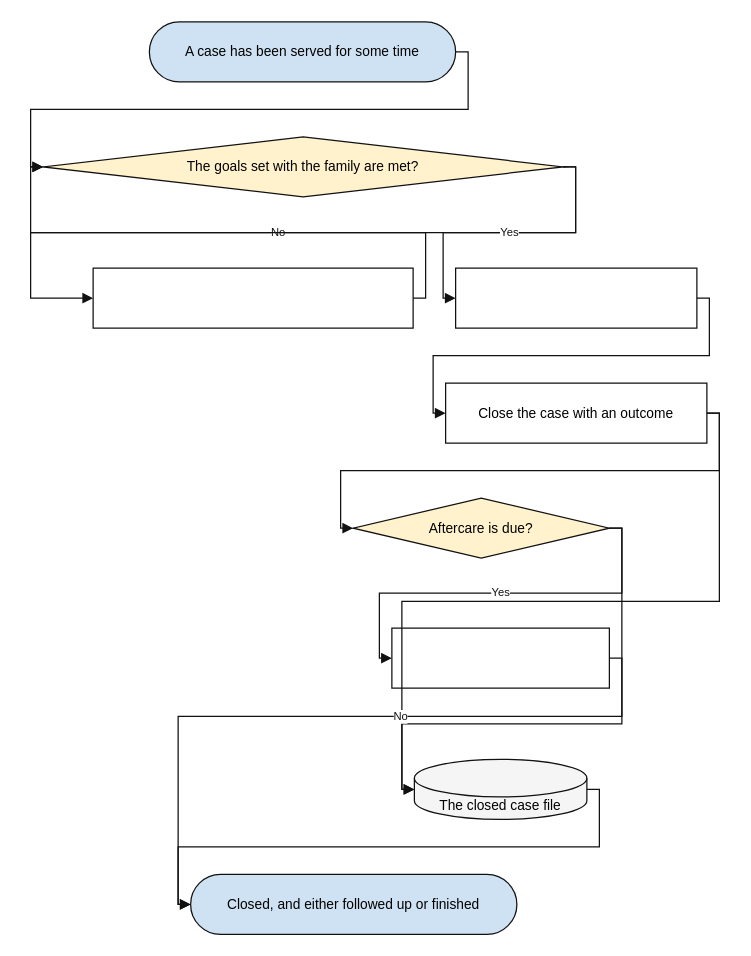
This 751x956 diagram has some shape labels left out. Here are the shapes that lost their labels. From the top down, the box of each, then its label:
(92, 267, 413, 328): Continue support and note what remains
(454, 267, 697, 328): Prepare the case study report
(391, 627, 609, 688): Set the aftercare follow-up
